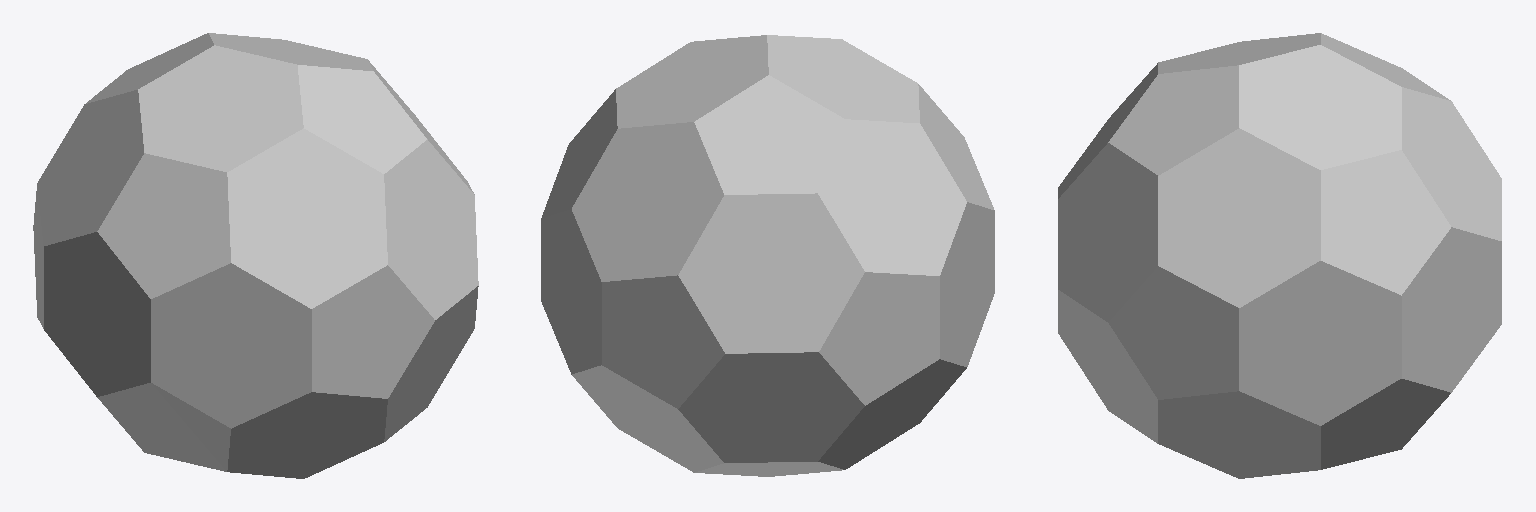
File: truncatedIcosahedron.obj
3 views of the same model, side by side, from view 1: azimuth 30°, elevation 25°; view 2: azimuth 150°, elevation 25°; view 3: azimuth 270°, elevation 25° (orthographic).
Visible parts, largest first — view 1: hedron; view 2: hedron; view 3: hedron.
Part boxes in pixels (x1,y1,x2,y2): hedron: (33, 33, 478, 478); hedron: (541, 35, 994, 476); hedron: (1058, 33, 1501, 478).
Size of the model in its own units: 0.5 by 0.5 by 0.5.